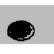correct: (2, 20, 37, 42)
